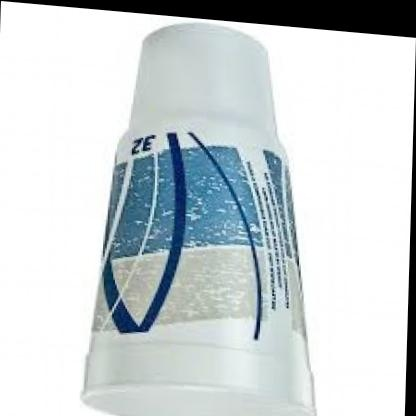trash: (84, 23, 314, 415)
